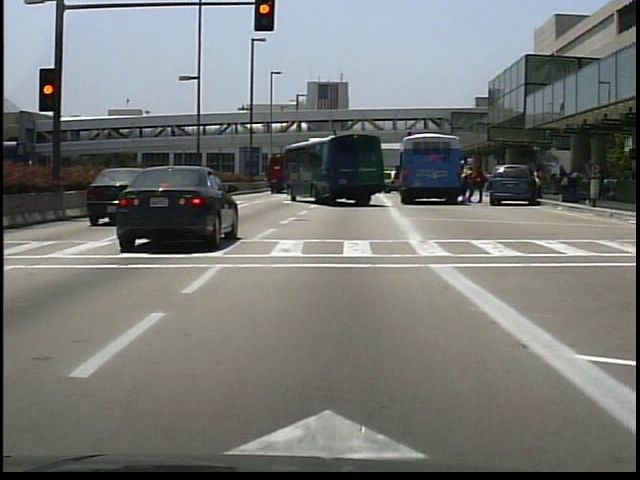person: (463, 163, 478, 204), (473, 164, 487, 207), (531, 168, 544, 206)
